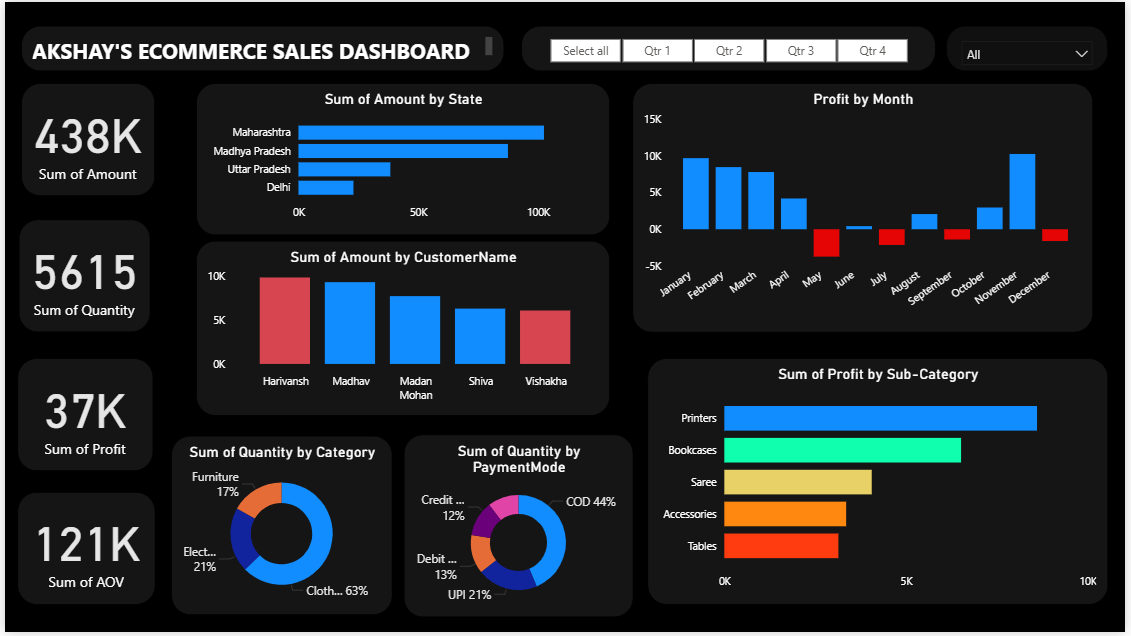

The page's visual inventory and layout, read from the dashboard file:
{"tool":"powerbi","page":{"name":"Page 1","canvas":[1280,720],"ordinal":0},"visuals":[{"type":"textbox","box":[18.3,26.7,551.7,51.7],"z":0},{"type":"columnChart","title":"Profit by Month","fields":{"Y":["Details.Profit"],"Category":["Orders.Order Date.Variation.Date Hierarchy.Month"]},"box":[717.5,92.5,526.2,285],"z":1000},{"type":"barChart","fields":{"Category":["Details.Sub-Category"],"Y":["Details.Profit"]},"box":[733.8,407.5,526.2,281.2],"z":2000},{"type":"donutChart","fields":{"Category":["Details.Category"],"Y":["Details.Quantity"]},"box":[190,496.2,252.5,205],"z":3000},{"type":"donutChart","fields":{"Category":["Details.PaymentMode"],"Y":["Details.Quantity"]},"box":[455,493.8,262.5,208.8],"z":4000},{"type":"card","fields":{"Values":["Details.Amount"]},"box":[18.8,92.5,152.5,128.8],"z":5000},{"type":"card","fields":{"Values":["Details.Quantity"]},"box":[16.2,248.8,150,128.8],"z":6000},{"type":"card","fields":{"Values":["Details.Profit"]},"box":[13.8,407.5,155,128.8],"z":7000},{"type":"card","fields":{"Values":["Details.AOV"]},"box":[13.8,560,157.5,128.8],"z":8000},{"type":"barChart","fields":{"Category":["Orders.State"],"Y":["Details.Amount"]},"box":[218.8,92.5,472.5,173.8],"z":9000},{"type":"columnChart","fields":{"Category":["Orders.CustomerName"],"Y":["Details.Amount"]},"box":[218.8,272.5,472.5,200],"z":10000},{"type":"slicer","fields":{"Values":["Orders.Order Date.Variation.Date Hierarchy.Quarter"]},"box":[590,26.7,473.3,51.7],"z":11000},{"type":"slicer","fields":{"Values":["Orders.State"]},"box":[1075,26.7,185,51.7],"z":12000}]}

Visuals, with their boxes in screenshot pixels (x1, y1, x2, y2), scaled from the page's 1280x720 canvas onto the 1131x636 screenshot:
textbox: 16 24 504 69
"Profit by Month" columnChart: 634 82 1099 333
barChart - Details.Sub-Category x Details.Profit: 648 360 1113 608
donutChart - Details.Category x Details.Quantity: 168 438 391 619
donutChart - Details.PaymentMode x Details.Quantity: 402 436 634 621
card - Details.Amount: 17 82 151 195
card - Details.Quantity: 14 220 147 334
card - Details.Profit: 12 360 149 474
card - Details.AOV: 12 495 151 608
barChart - Orders.State x Details.Amount: 193 82 611 235
columnChart - Orders.CustomerName x Details.Amount: 193 241 611 417
slicer - Orders.Order Date.Variation.Date Hierarchy.Quarter: 521 24 940 69
slicer - Orders.State: 950 24 1113 69
